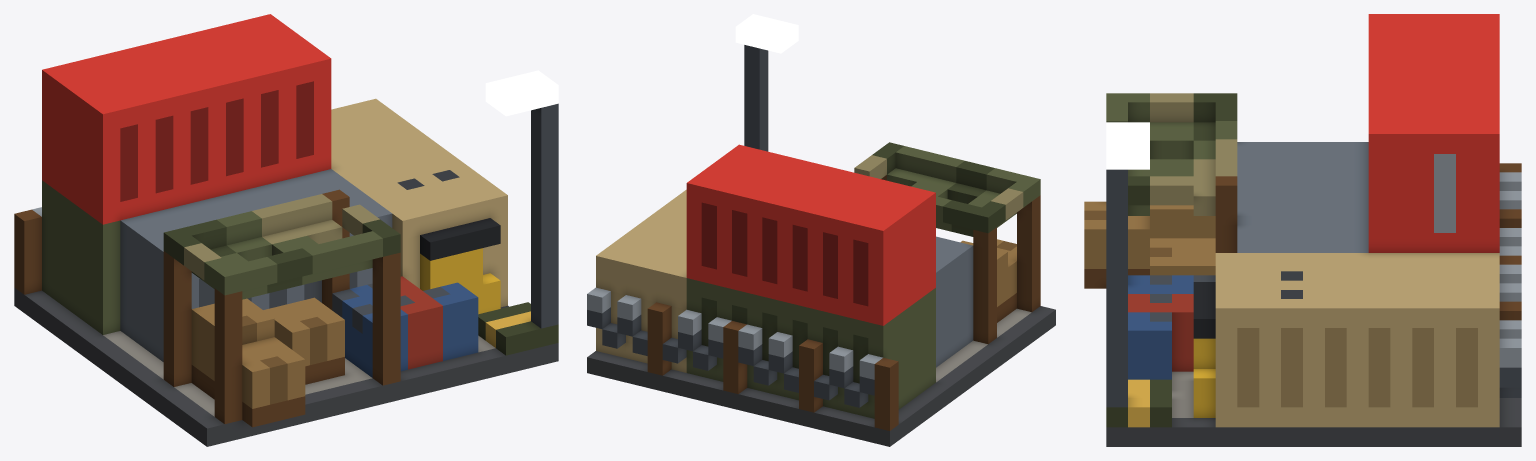
Rendered from cm_depot_0.glb.
3 views of the same model, side by side, from view 1: azimuth 30°, elevation 25°; view 2: azimuth 150°, elevation 25°; view 3: azimuth 270°, elevation 25° (orthographic). The views are drawn at different scales.
Visible parts, largest first — view 1: cm_depot_0_body; view 2: cm_depot_0_body; view 3: cm_depot_0_body.
Part boxes in pixels (box(x1,y1,x2,y2)): cm_depot_0_body: box(14, 14, 558, 446); cm_depot_0_body: box(587, 14, 1055, 446); cm_depot_0_body: box(1084, 14, 1521, 446).
Size of the model in its own units: 1.25 by 0.9375 by 1.25.
1 material, 1 textured.
